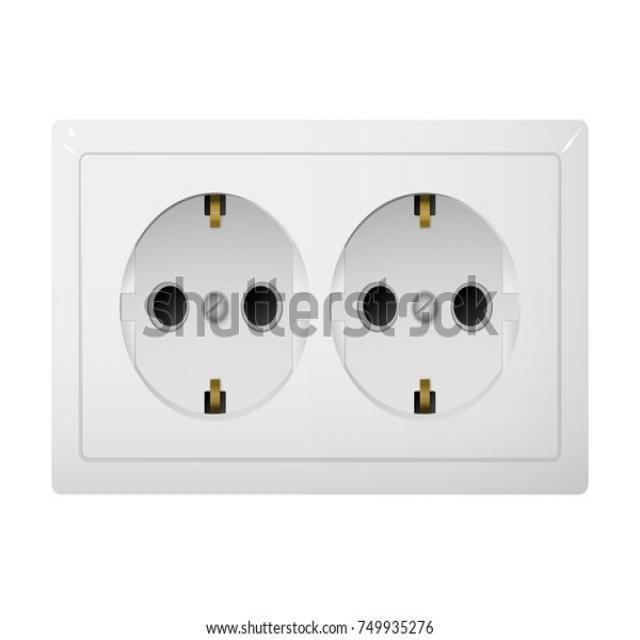typeb: (32, 100, 634, 536)
